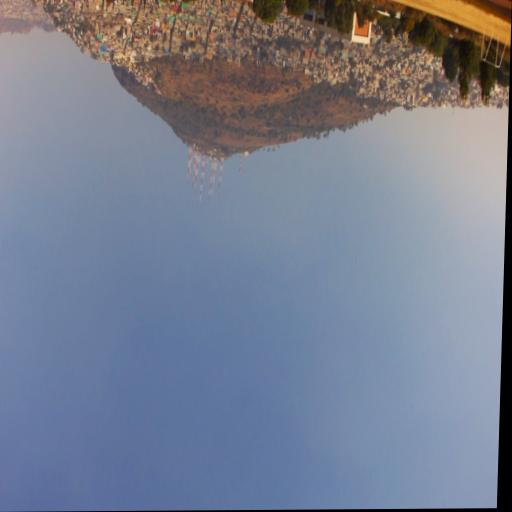drones: (237, 105, 241, 109)
